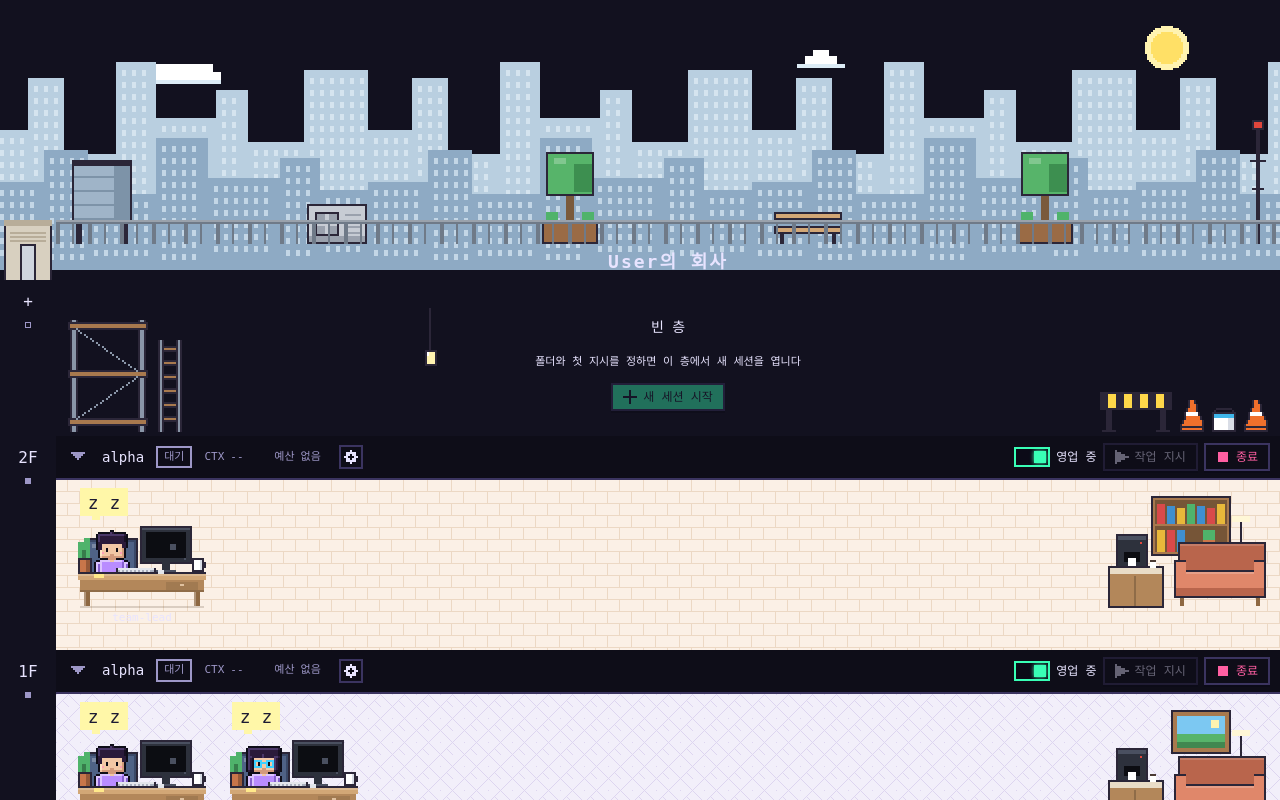
지붕 간판(phase6b §11.1) › 간판은 버튼, 누르면 빌딩 정보 창(층·팀원 수, HUD와 같은 숫자)
Click the button "User의 회사".
click(668, 262)  # box top-left (600, 250), bottom-right (736, 274)
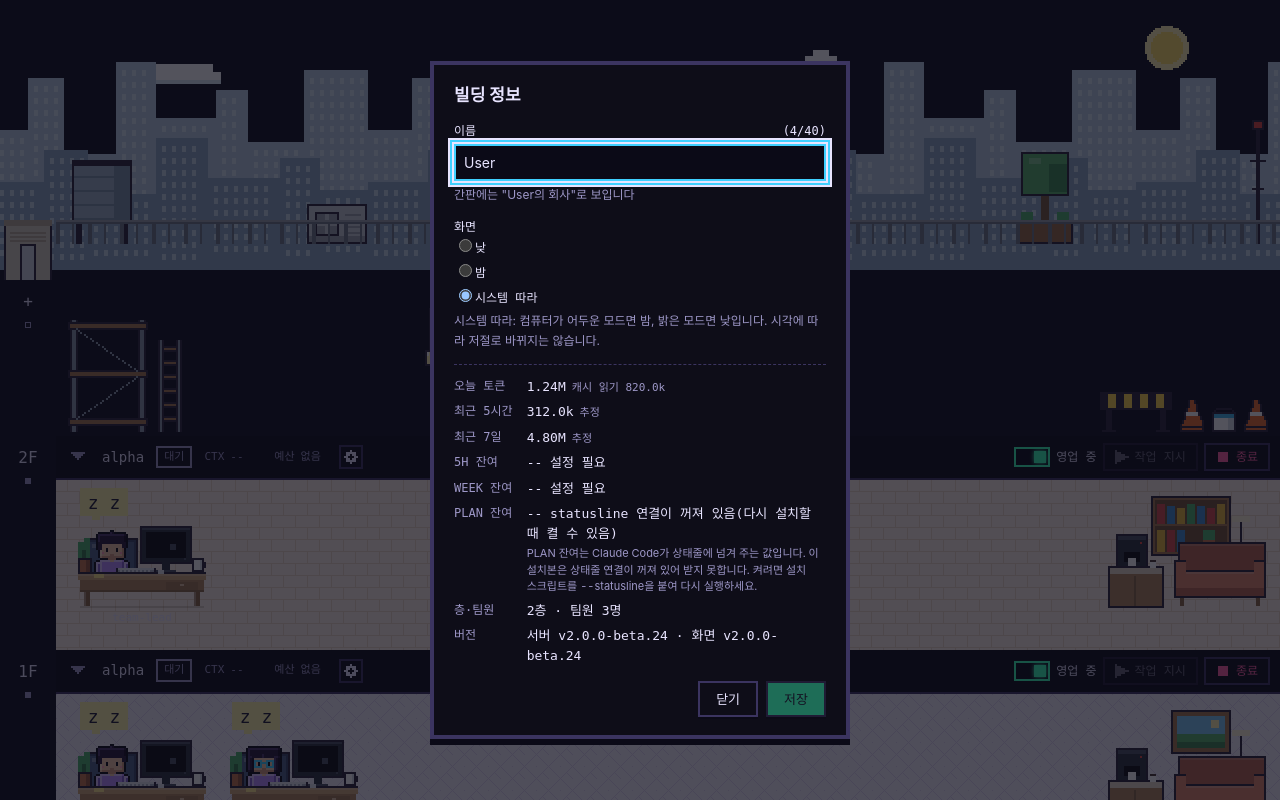
Now the text "1.24M" is shown, box top-left (527, 379), bottom-right (566, 394)
